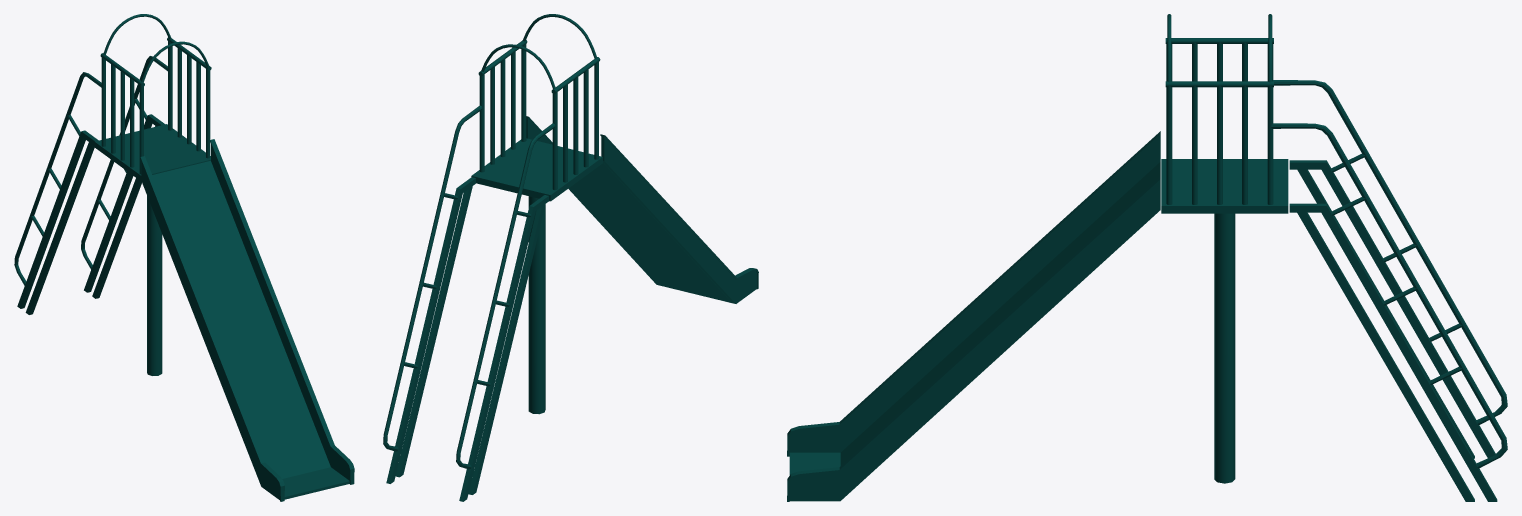
Rendered from Slide_x20_refine 1.fbx.
The picture shows the model from 3 angles, left to right: view 1: azimuth 30°, elevation 25°; view 2: azimuth 150°, elevation 25°; view 3: azimuth 270°, elevation 25°; orthographic projection. The views are drawn at different scales.
Parts seen in each view (by area): view 1: Slide1; view 2: Slide1; view 3: Slide1.
Boxes of the visible parts, bbox=[...] form: Slide1: bbox=[14, 14, 354, 501]; Slide1: bbox=[383, 14, 758, 501]; Slide1: bbox=[787, 14, 1507, 501].
Size of the model in its own units: 2.48 by 11.03 by 15.65.
